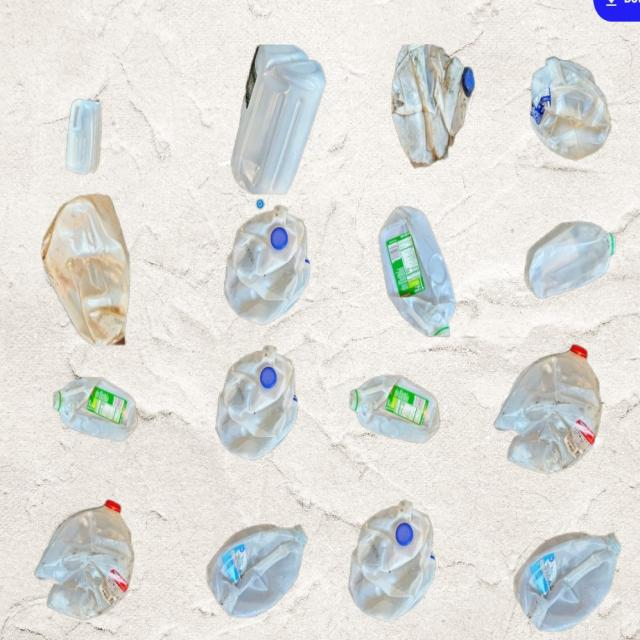milk-jug: (38, 190, 143, 352), (496, 333, 604, 473), (229, 49, 326, 192), (35, 493, 135, 626), (368, 202, 458, 343), (218, 202, 316, 324), (207, 517, 306, 627), (522, 49, 617, 163), (389, 40, 472, 168), (518, 523, 615, 632), (350, 503, 438, 617), (214, 347, 303, 458), (523, 210, 622, 299), (347, 367, 443, 443), (46, 377, 142, 437), (65, 90, 109, 176)
